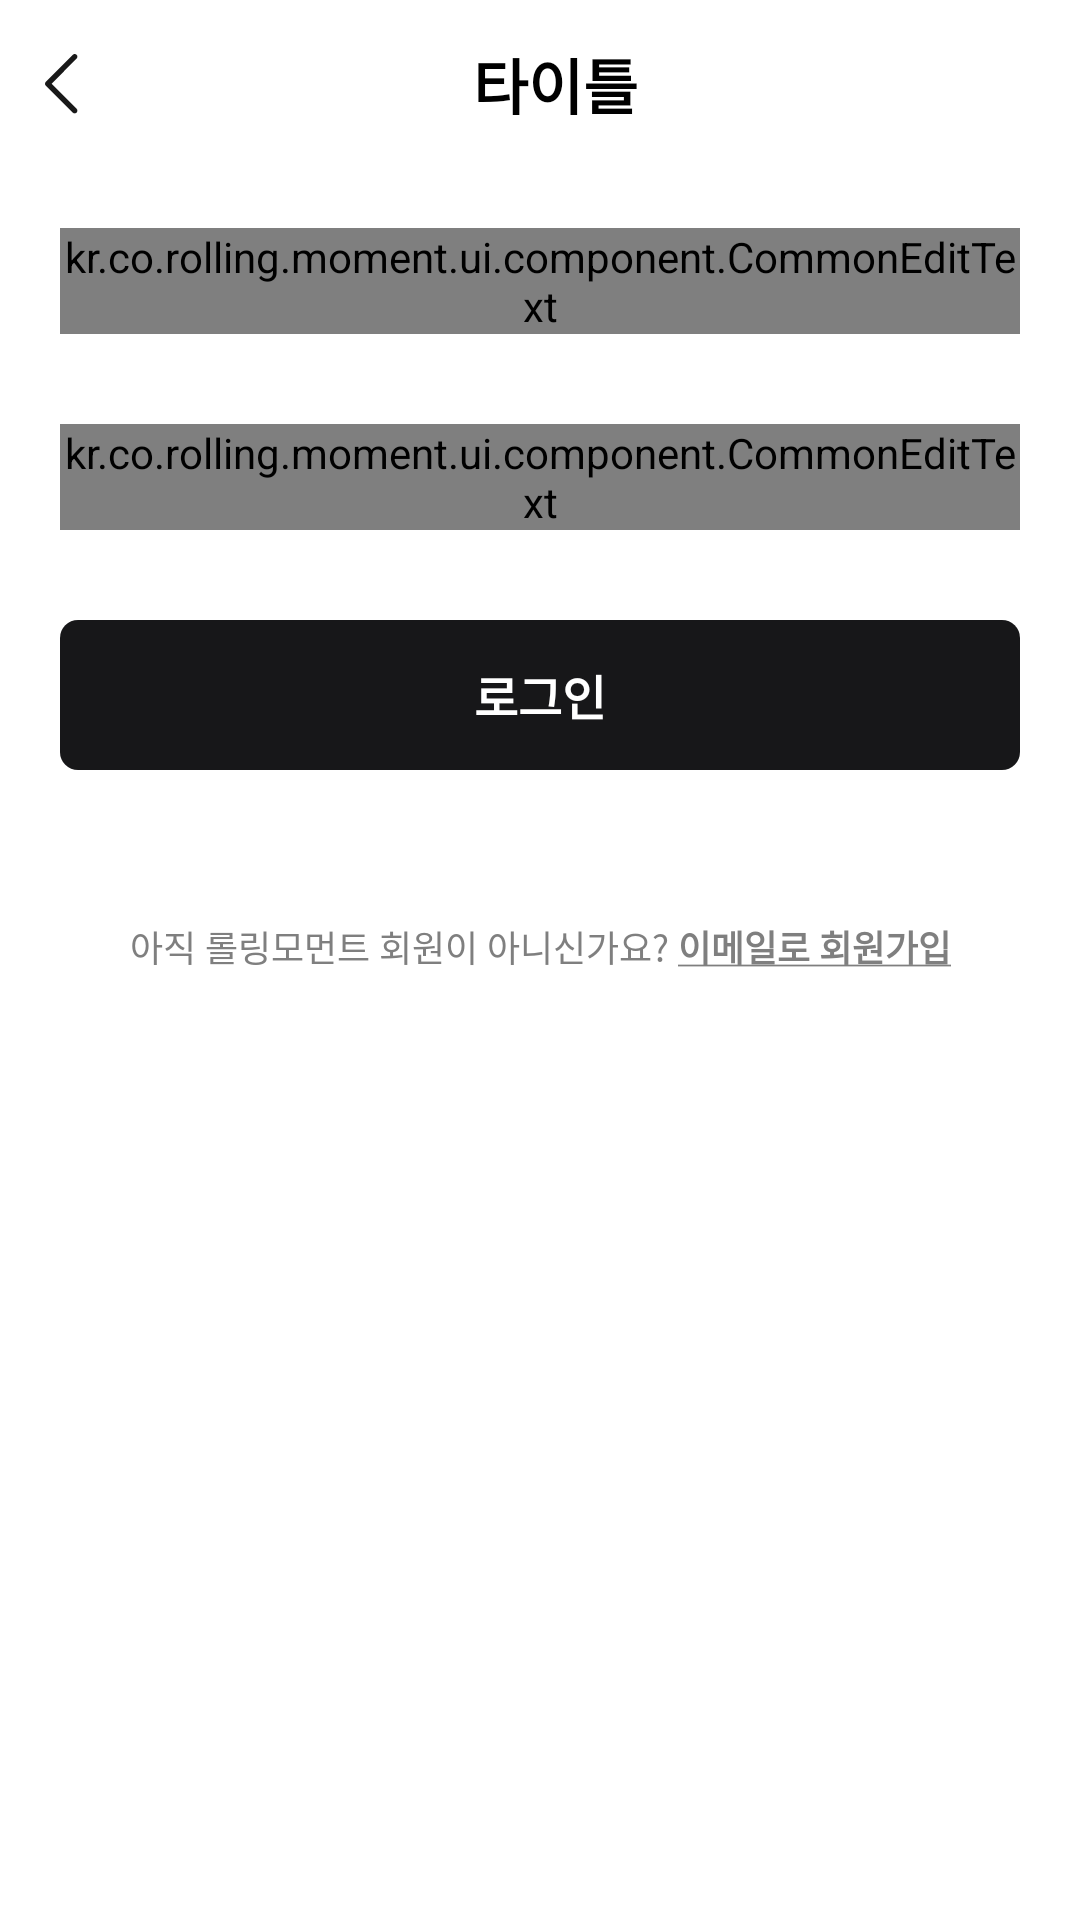

Locate icon controls on the screen. Image size 1080px x 1920px, boxes as (x1, y1, x2, y2).
chevron left: (45, 54, 78, 114)
